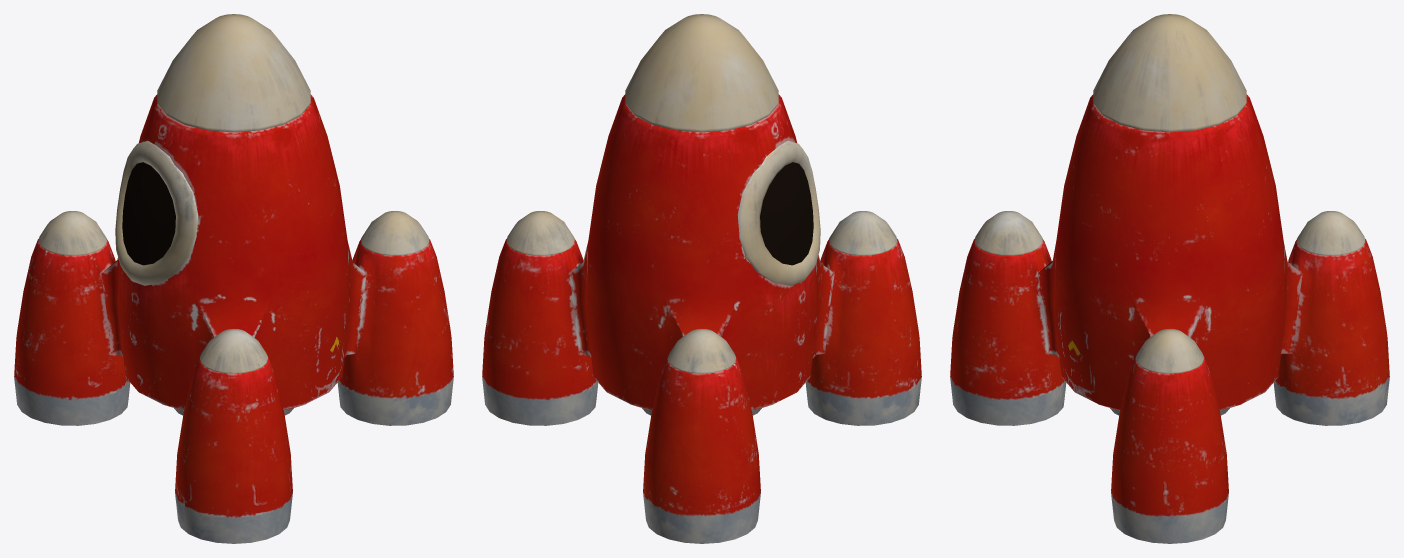
File: retrofuturistic_toy_rocket.glb
3 renders of one model, left to right at view 1: azimuth 30°, elevation 25°; view 2: azimuth 150°, elevation 25°; view 3: azimuth 270°, elevation 25°, orthographic.
Parts seen in each view (by area): view 1: Low_poly, pCylinder5; view 2: Low_poly, pCylinder5; view 3: Low_poly.
Boxes of the visible parts, box(x1,y1,x2,y2) form: Low_poly: box(14, 14, 453, 543); pCylinder5: box(115, 141, 198, 285); Low_poly: box(482, 14, 921, 543); pCylinder5: box(737, 141, 820, 285); Low_poly: box(950, 14, 1389, 543).
Bounding box in the file's own units: 1.66 × 2 × 1.84.
1 material, 1 textured.
